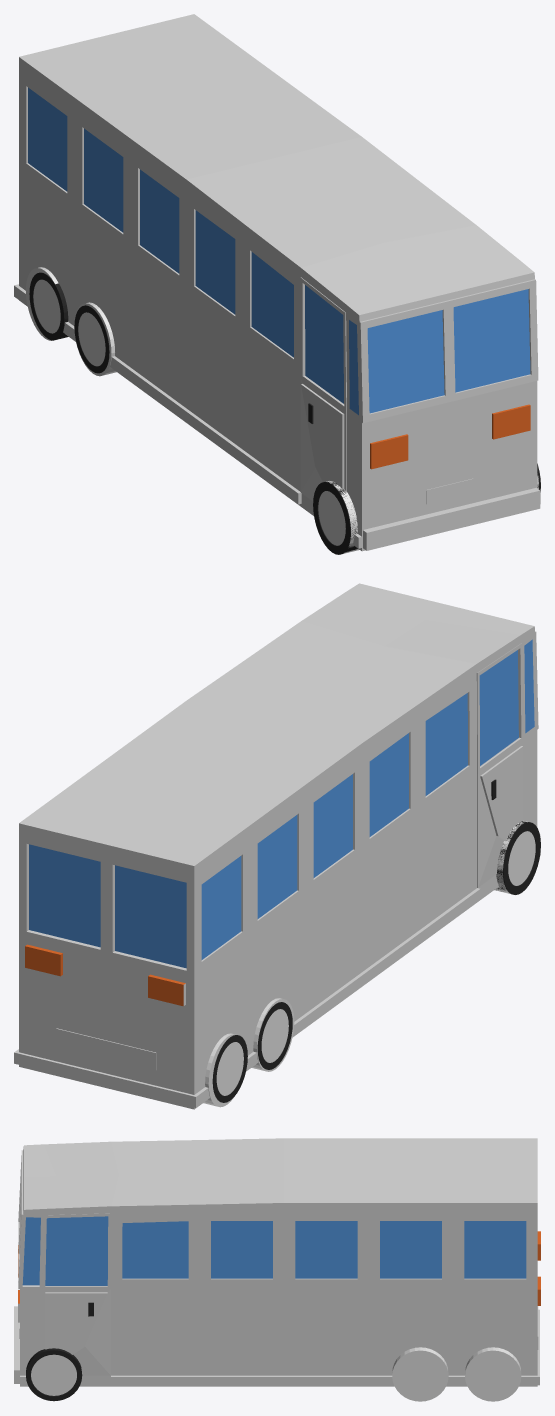
The model's file is bus.glb.
The picture shows the model from 3 angles, top to bottom: view 1: azimuth 30°, elevation 25°; view 2: azimuth 150°, elevation 25°; view 3: azimuth 270°, elevation 25°; orthographic projection. The views are drawn at different scales.
Visible parts, largest first — view 1: Cube, Cylinder.011, Cylinder.004, Cylinder.005, Cylinder.003, Cylinder.008; view 2: Cube, Cylinder.003, Cylinder.004, Cylinder.005, Cylinder.011, Cylinder.008; view 3: Cube, Cylinder.001, Cylinder, Cylinder.002, Cylinder.008.
Part boxes in pixels (x1,y1,x2,y2): Cube: (14,14,540,551); Cylinder.011: (29,272,109,373); Cylinder.004: (74,302,116,376); Cylinder.005: (318,481,359,553); Cylinder.003: (26,267,60,340); Cylinder.008: (313,463,540,554); Cube: (14,583,540,1109); Cylinder.003: (203,1033,243,1107); Cylinder.004: (251,998,294,1071); Cylinder.005: (495,820,535,893); Cylinder.011: (212,1002,292,1102); Cylinder.008: (496,821,540,894); Cube: (14,1138,540,1386); Cylinder.001: (392,1347,448,1401); Cylinder: (465,1347,521,1401); Cylinder.002: (31,1354,82,1395); Cylinder.008: (26,1348,82,1401).
Bounding box in the file's own units: 2.8 × 3.61 × 8.83.
